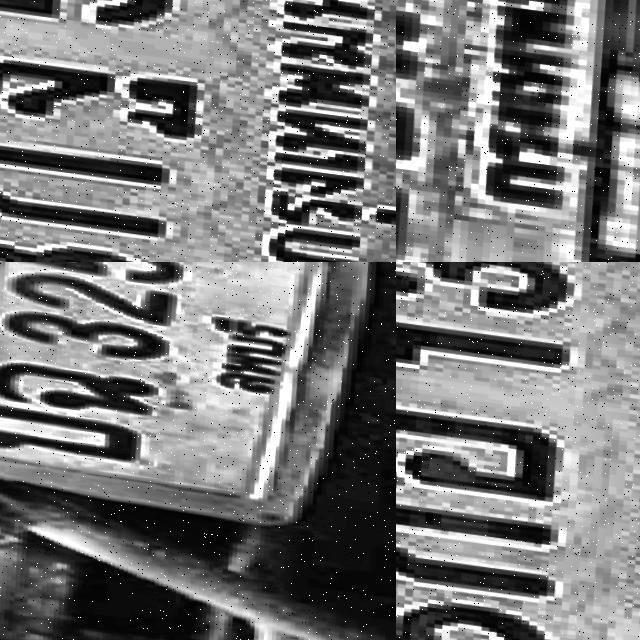license-plate: (0, 262, 396, 544), (0, 0, 396, 262), (396, 262, 640, 640), (396, 0, 640, 262)
